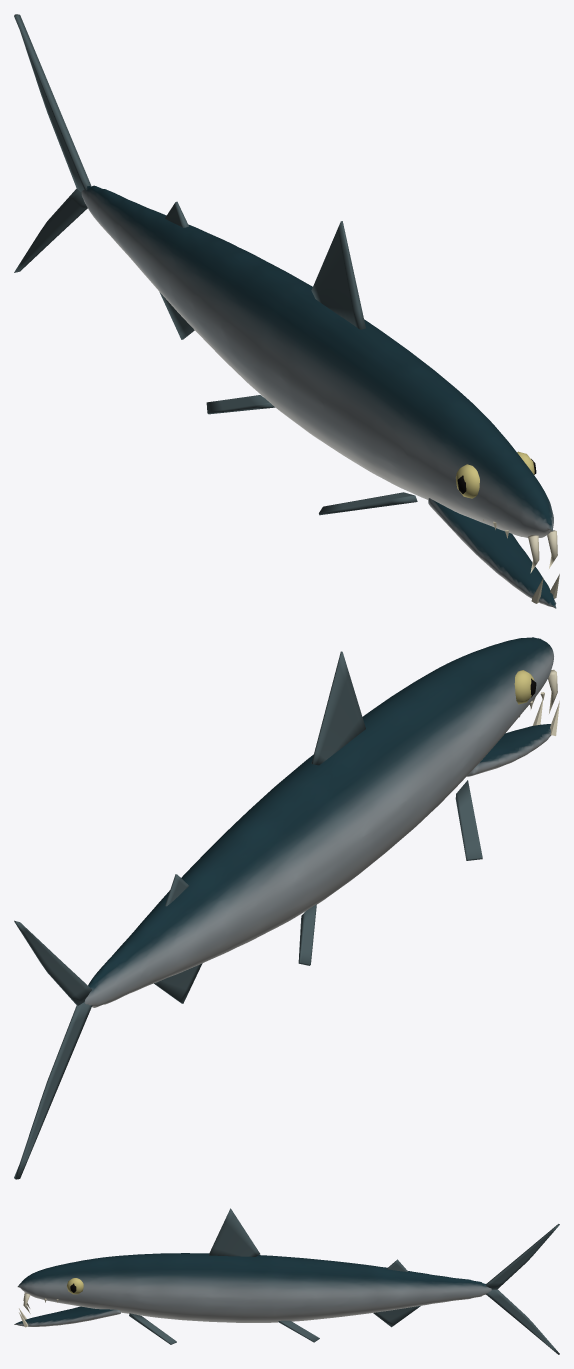
Rendered from Enchodus.fbx.
The picture shows the model from 3 angles, top to bottom: view 1: azimuth 30°, elevation 25°; view 2: azimuth 150°, elevation 25°; view 3: azimuth 270°, elevation 25°; orthographic projection. The views are drawn at different scales.
Visible parts, largest first — view 1: Enchodus; view 2: Enchodus; view 3: Enchodus.
Boxes of the visible parts, bbox=[...] form: Enchodus: bbox=[14, 14, 559, 608]; Enchodus: bbox=[14, 637, 559, 1179]; Enchodus: bbox=[14, 1208, 559, 1354].
Bounding box in the file's own units: 0.3208 × 0.54 × 1.83.
